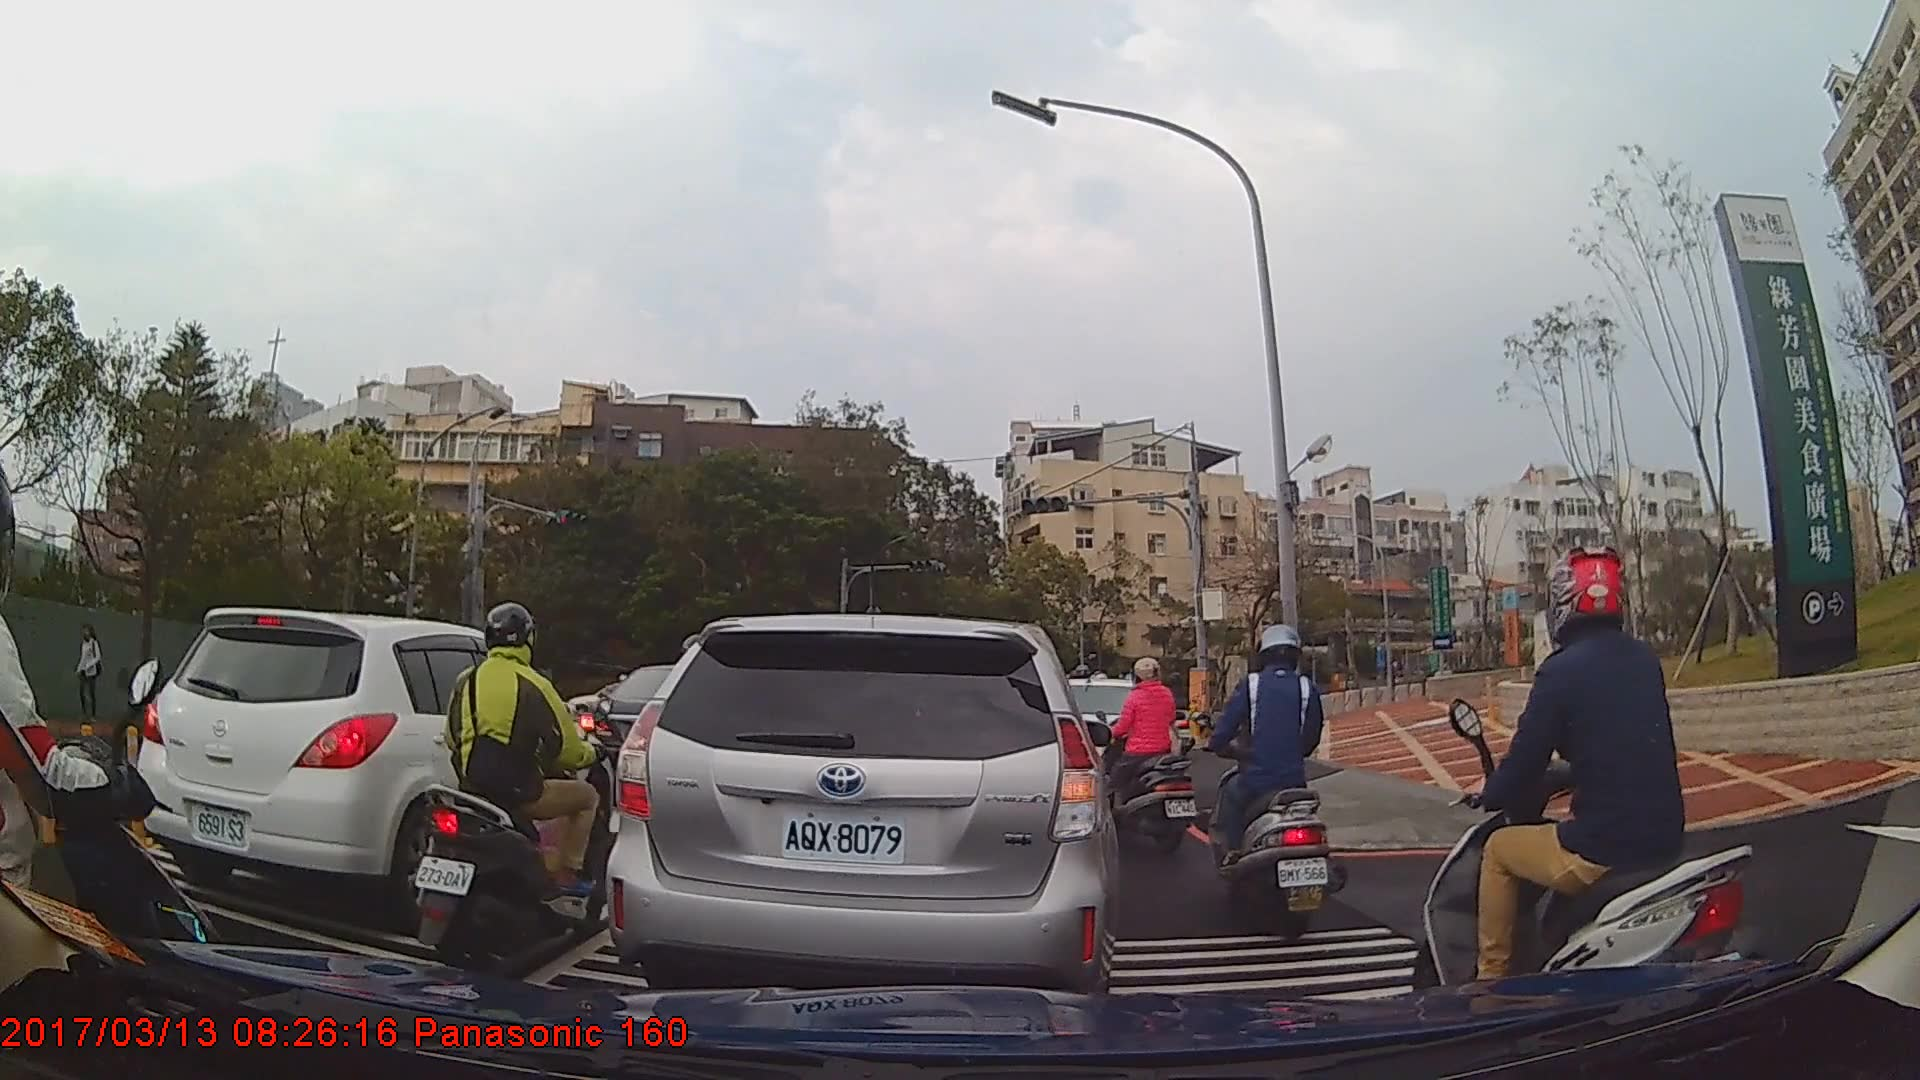pedestrian: (77, 623, 104, 721)
rider: (1423, 545, 1751, 1045), (415, 597, 622, 973), (1210, 616, 1339, 947), (1085, 654, 1193, 862), (1160, 669, 1199, 759)
vehicle: (605, 611, 1121, 1016), (138, 604, 608, 931)
